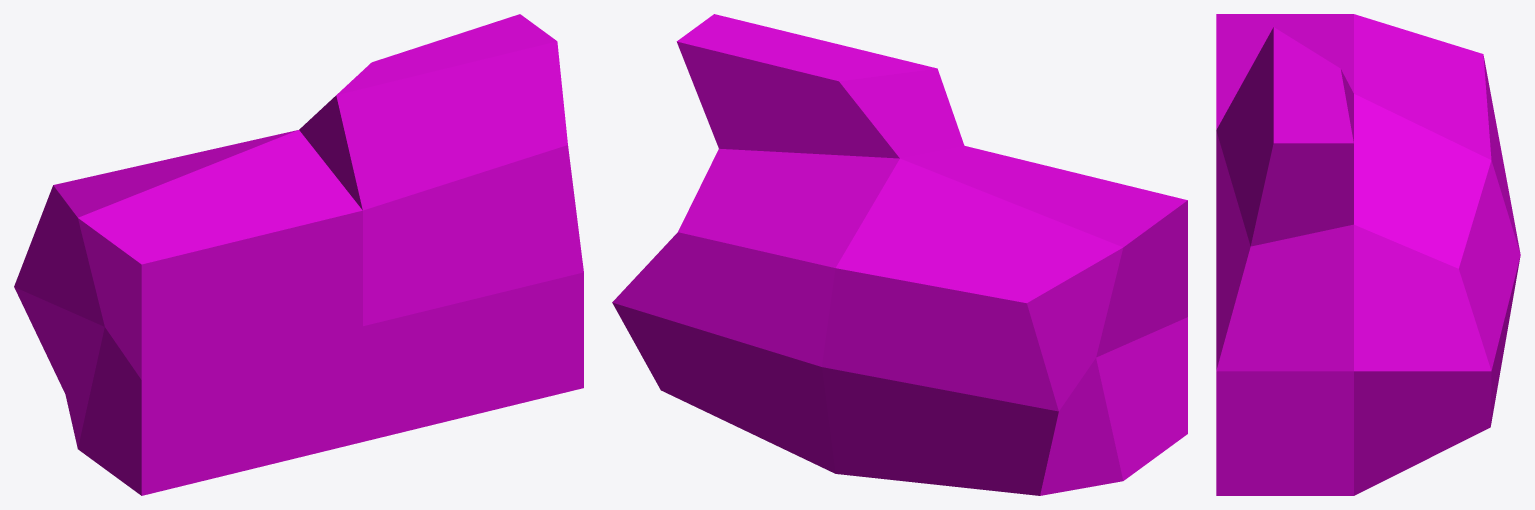
The model's file is RuinBricks.fbx.
3 renders of one model, left to right at view 1: azimuth 30°, elevation 25°; view 2: azimuth 150°, elevation 25°; view 3: azimuth 270°, elevation 25°, orthographic. The views are drawn at different scales.
Parts seen in each view (by area): view 1: RuinBricks; view 2: RuinBricks; view 3: RuinBricks.
Boxes of the visible parts, x1,y1,x2,y2 form: RuinBricks: (14, 14, 583, 495); RuinBricks: (612, 14, 1187, 495); RuinBricks: (1216, 14, 1520, 495).
Bounding box in the file's own units: 40000 × 29929 × 22124.
